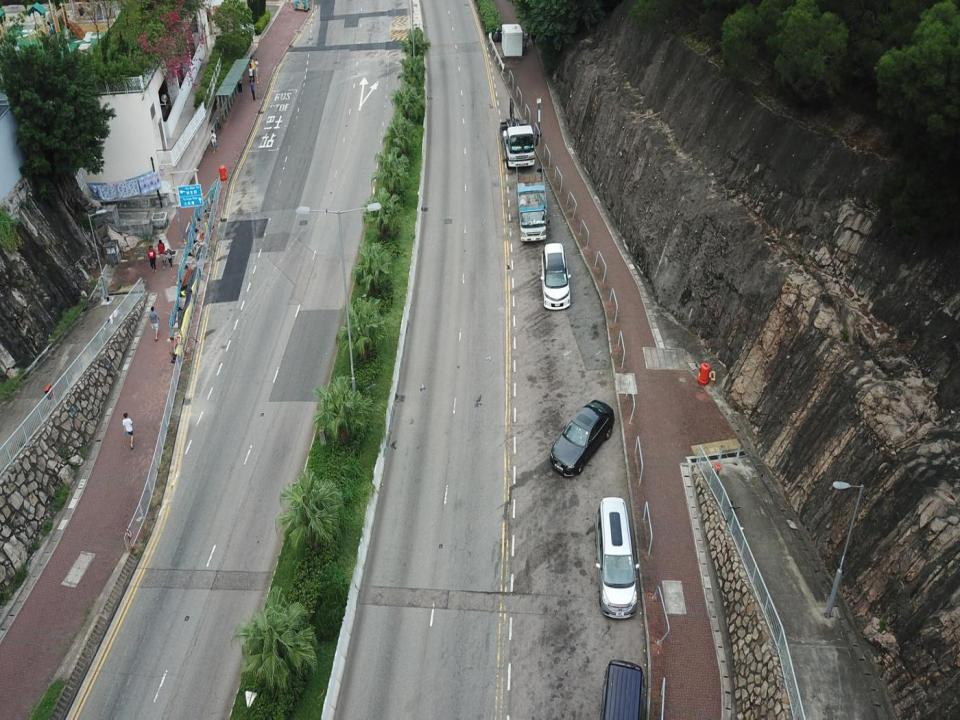car: (548, 400, 614, 477)
truck: (499, 98, 537, 170), (516, 165, 548, 243)
van: (595, 496, 639, 620), (601, 659, 643, 719), (540, 241, 570, 310)
